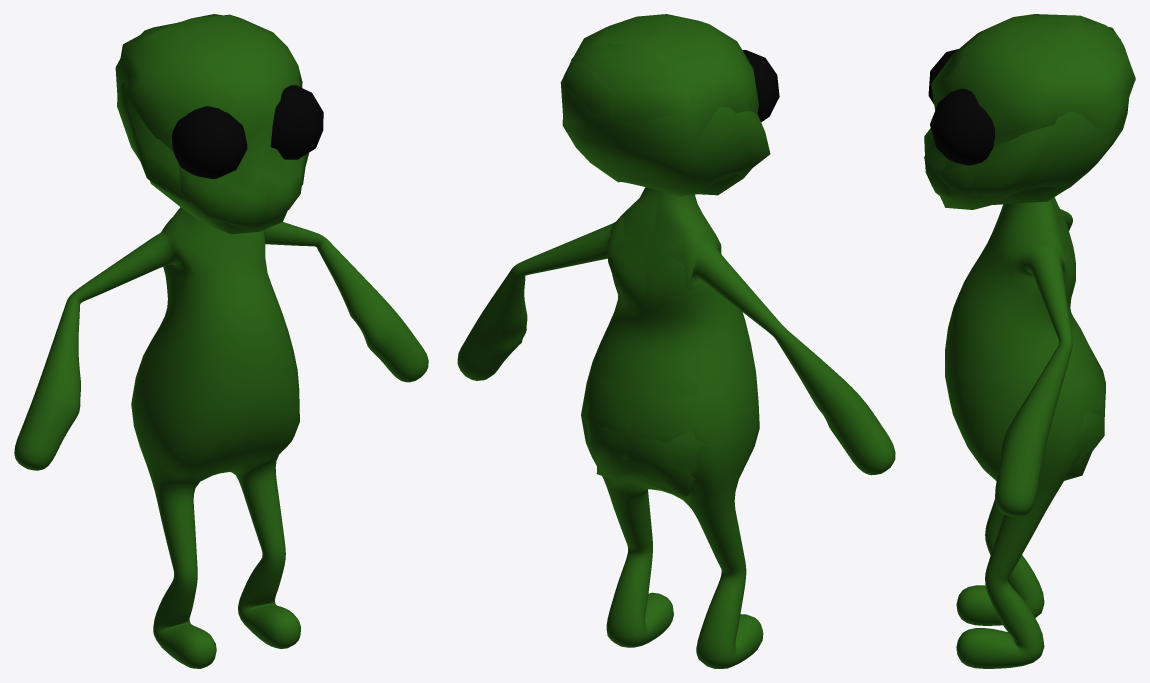
The model's file is alientest.fbx.
3 views of the same model, side by side, from view 1: azimuth 30°, elevation 25°; view 2: azimuth 150°, elevation 25°; view 3: azimuth 270°, elevation 25° (orthographic). The views are drawn at different scales.
Parts seen in each view (by area): view 1: Cube, Icosphere.001, Icosphere; view 2: Cube, Icosphere.001; view 3: Cube, Icosphere, Icosphere.001.
Part boxes in pixels (left/top/right/bottom): Cube: left=14, top=14, right=428, bottom=668; Icosphere.001: left=172, top=106, right=247, bottom=178; Icosphere: left=270, top=85, right=323, bottom=159; Cube: left=457, top=14, right=895, bottom=668; Icosphere.001: left=742, top=50, right=779, bottom=122; Cube: left=924, top=14, right=1135, bottom=668; Icosphere: left=930, top=88, right=995, bottom=165; Icosphere.001: left=928, top=49, right=958, bottom=103.
Bounding box in the file's own units: 531 × 747 × 232.
